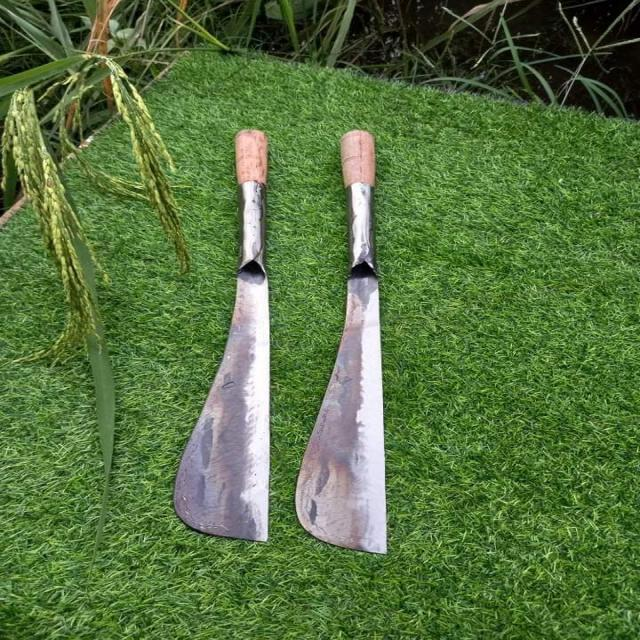eto: (166, 124, 275, 548), (290, 118, 388, 557)
